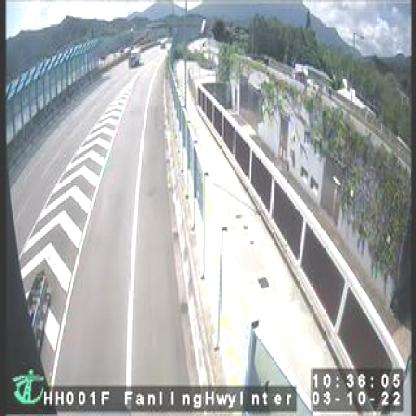Truck: (129, 49, 140, 64)
